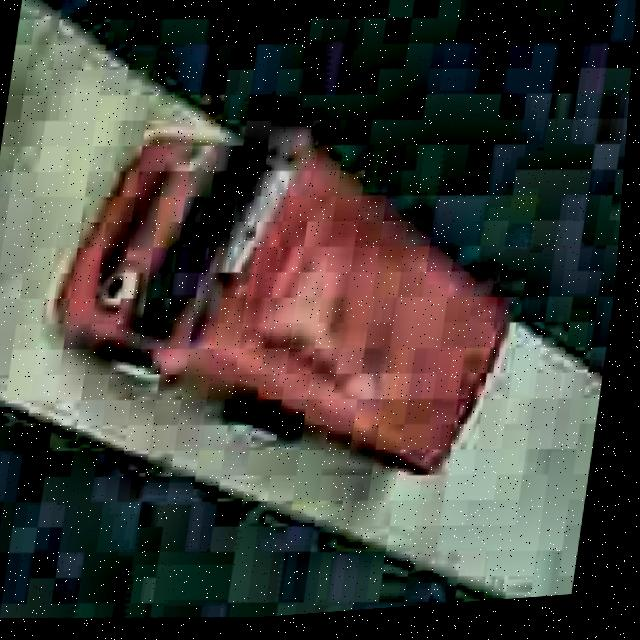bus: (26, 97, 540, 507)
